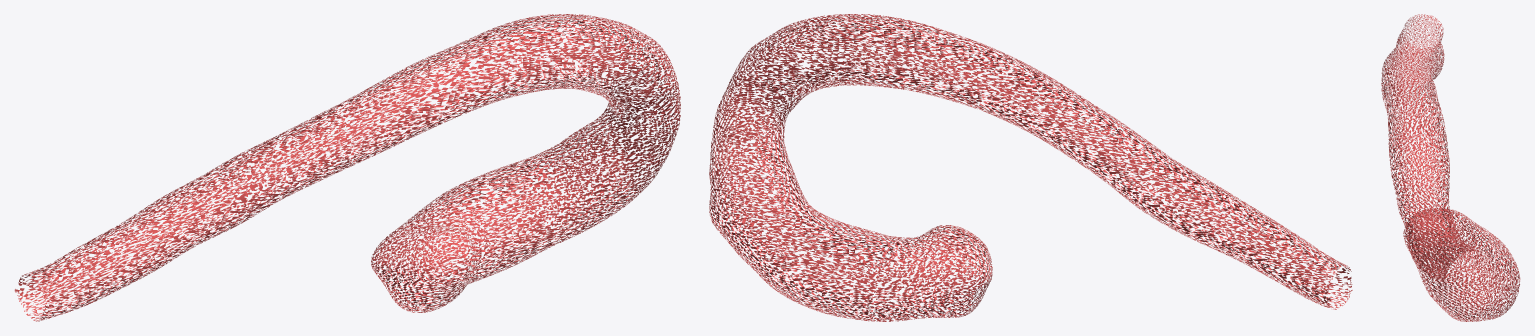
File: aorta.glb
The picture shows the model from 3 angles, left to right: view 1: azimuth 30°, elevation 25°; view 2: azimuth 150°, elevation 25°; view 3: azimuth 270°, elevation 25°; orthographic projection. The views are drawn at different scales.
Bounding box in the file's own units: 249 × 102 × 59.25.
